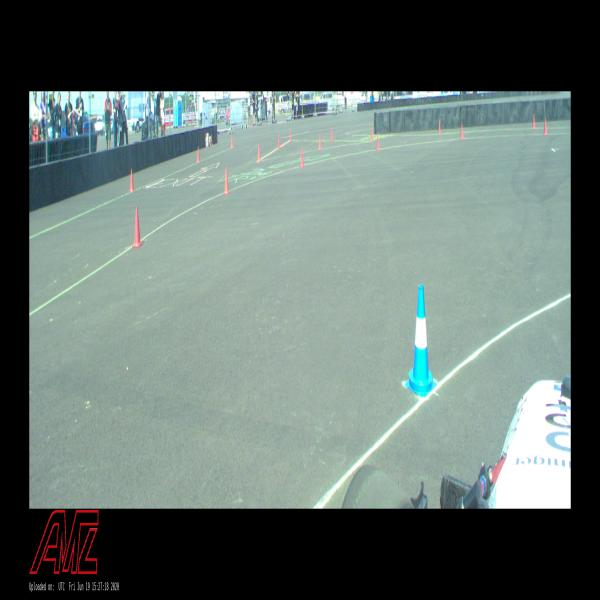blue_cone: (405, 285, 437, 397)
